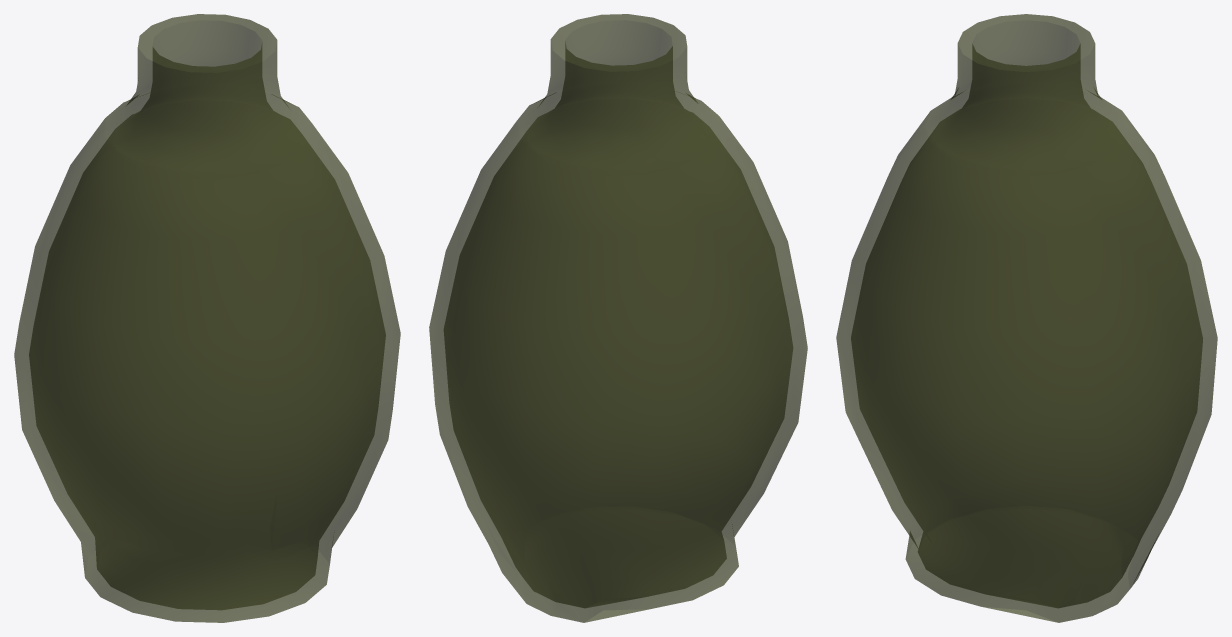
Rendered from botella1.fbx.
3 renders of one model, left to right at view 1: azimuth 30°, elevation 25°; view 2: azimuth 150°, elevation 25°; view 3: azimuth 270°, elevation 25°, orthographic. The views are drawn at different scales.
Visible parts, largest first — view 1: BotellaCristal1; view 2: BotellaCristal1; view 3: BotellaCristal1.
Boxes of the visible parts, bbox=[...] form: BotellaCristal1: bbox=[14, 14, 400, 622]; BotellaCristal1: bbox=[429, 14, 807, 622]; BotellaCristal1: bbox=[836, 14, 1217, 622].
Size of the model in its own units: 26.13 by 40.69 by 26.13.
